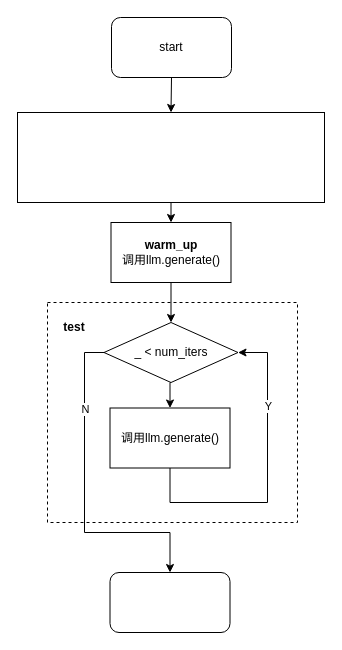
Image size: 342x650. Some labels were removed from this diagram. The shapes that lost their labels are listed below. From the top down, each one's box as (x1, y1, x2, y2) in pixels, then its label:
(16, 112, 324, 202): 1. 从命令行获取参数 2. 创建并初始化llm对象
(109, 572, 230, 632): finish
